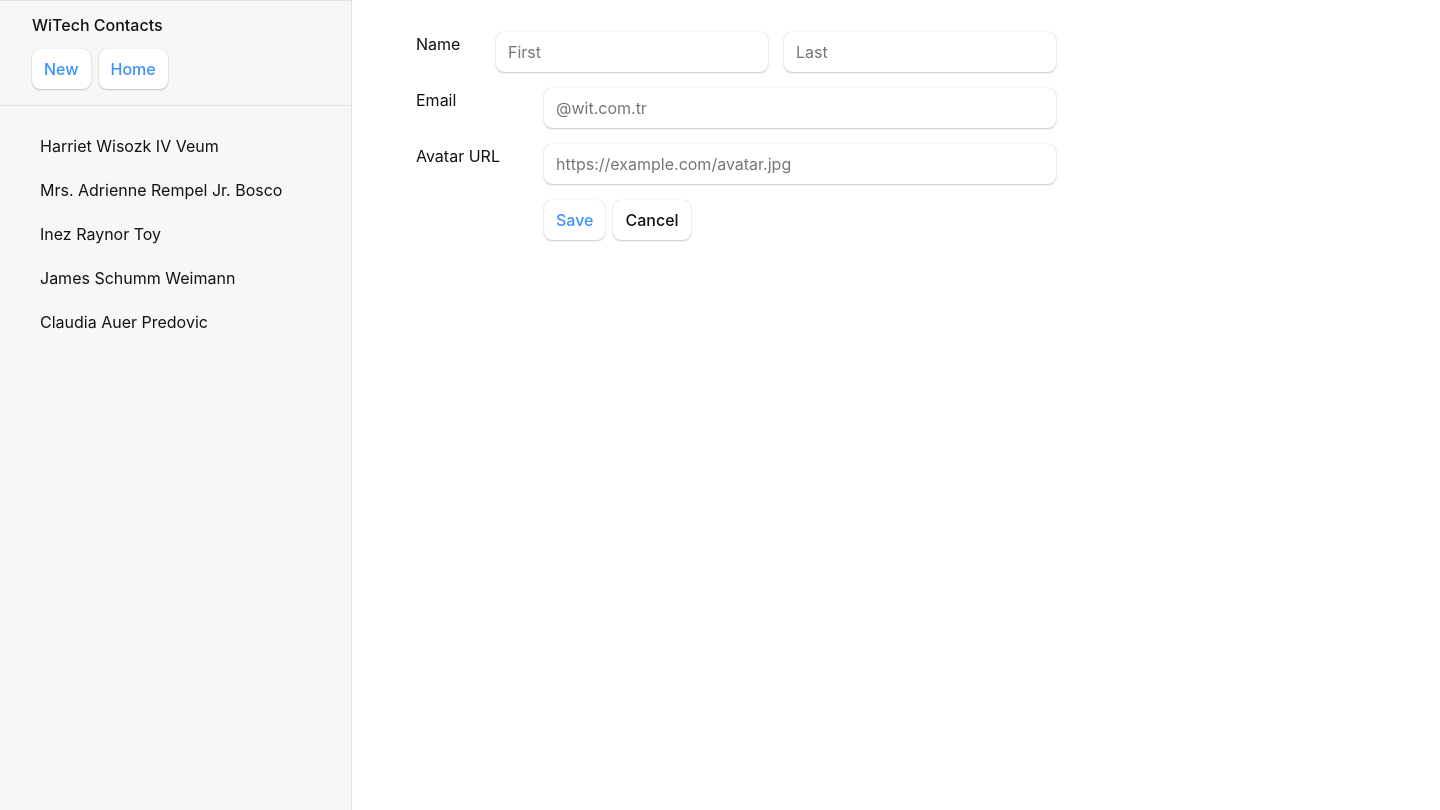
Test: Yeni kullanıcı kayıt ediliyor
Type "Emre" into the field with placeholder "First".
click(632, 52); type("Emre")  # box [496,32,768,72]
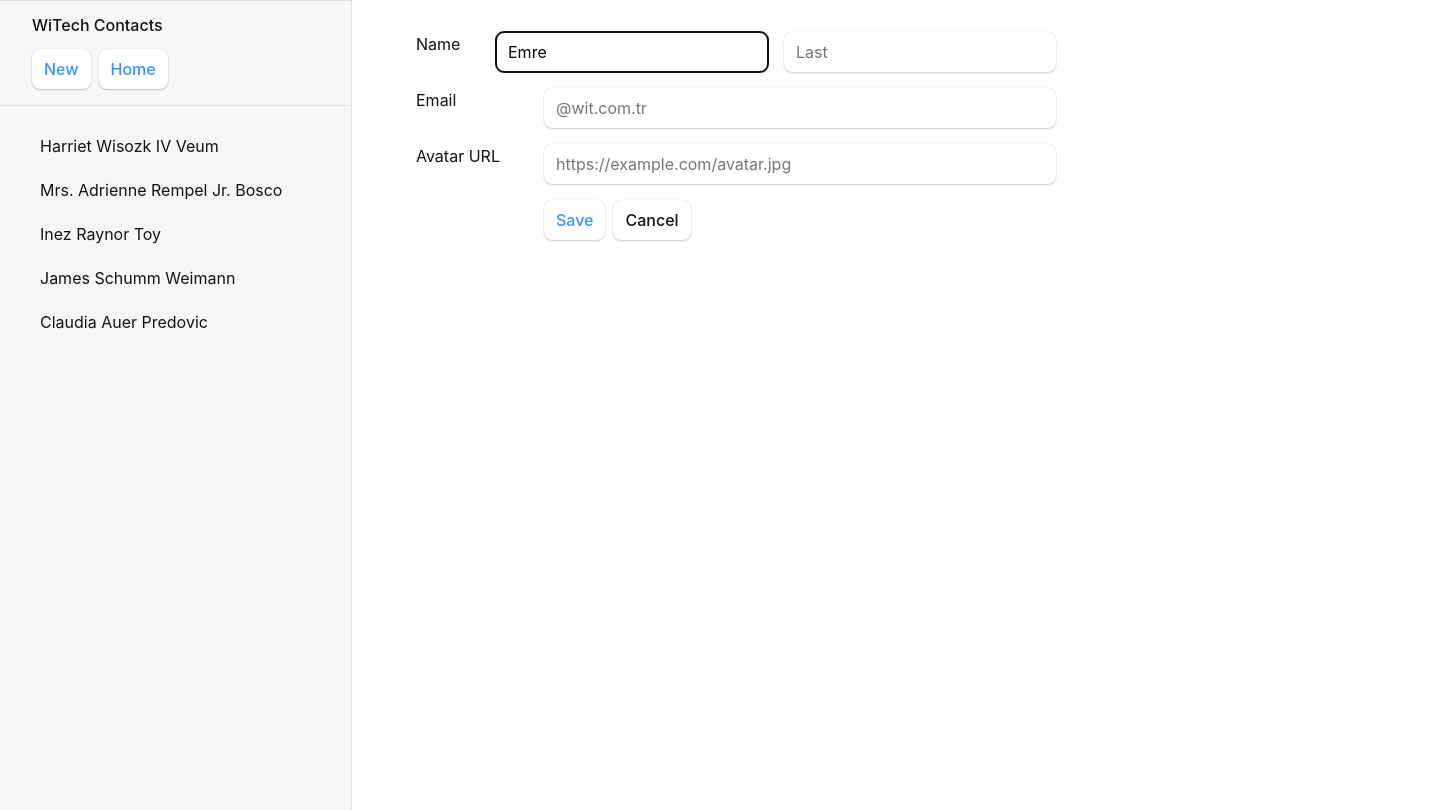
Type "Sahiner" into the field with placeholder "Last".
click(920, 52); type("Sahiner")  # box [784,32,1056,72]
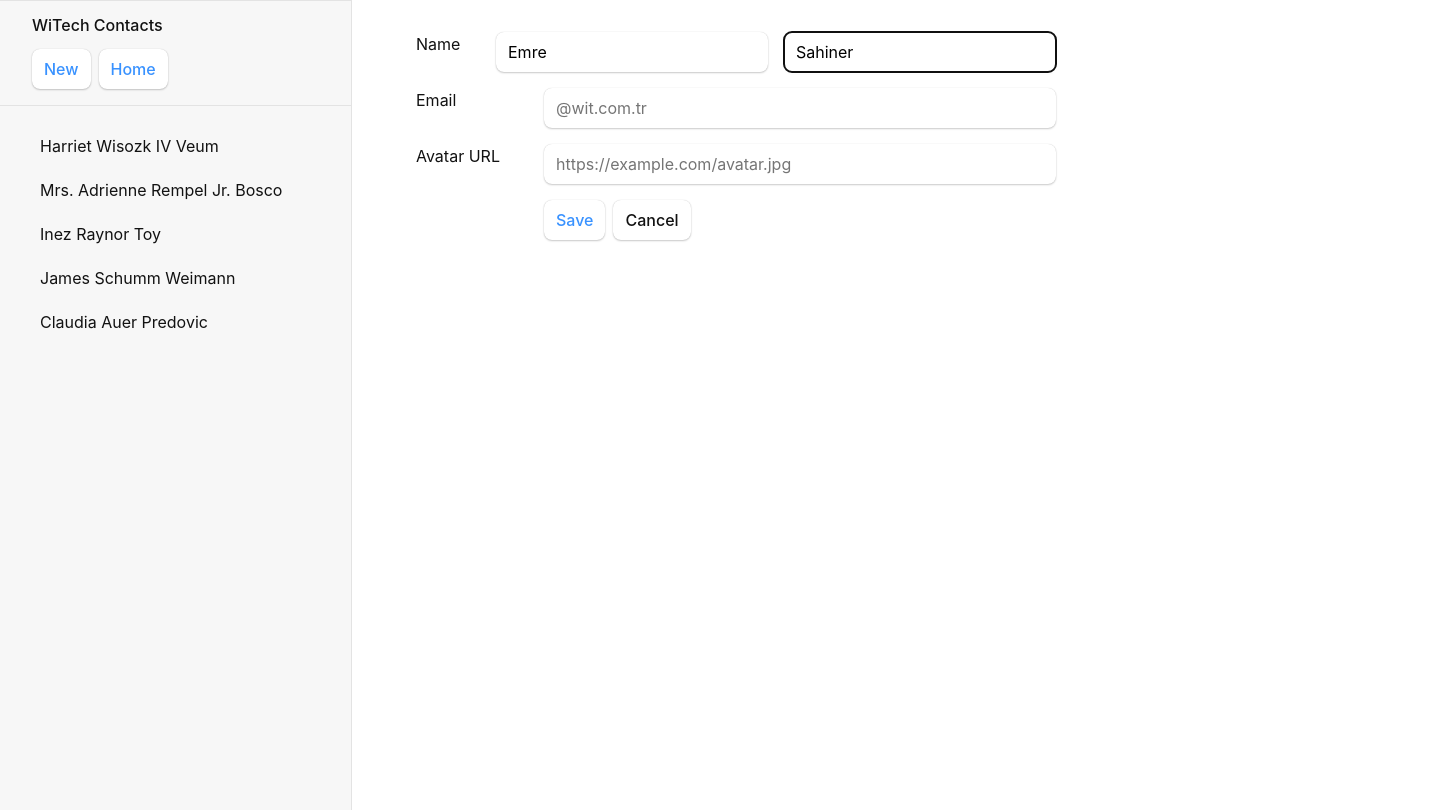
Type "emre@wit.com.tr" into the field with placeholder "@wit.com.tr".
click(800, 108); type("emre@wit.com.tr")  # box [544,88,1056,128]
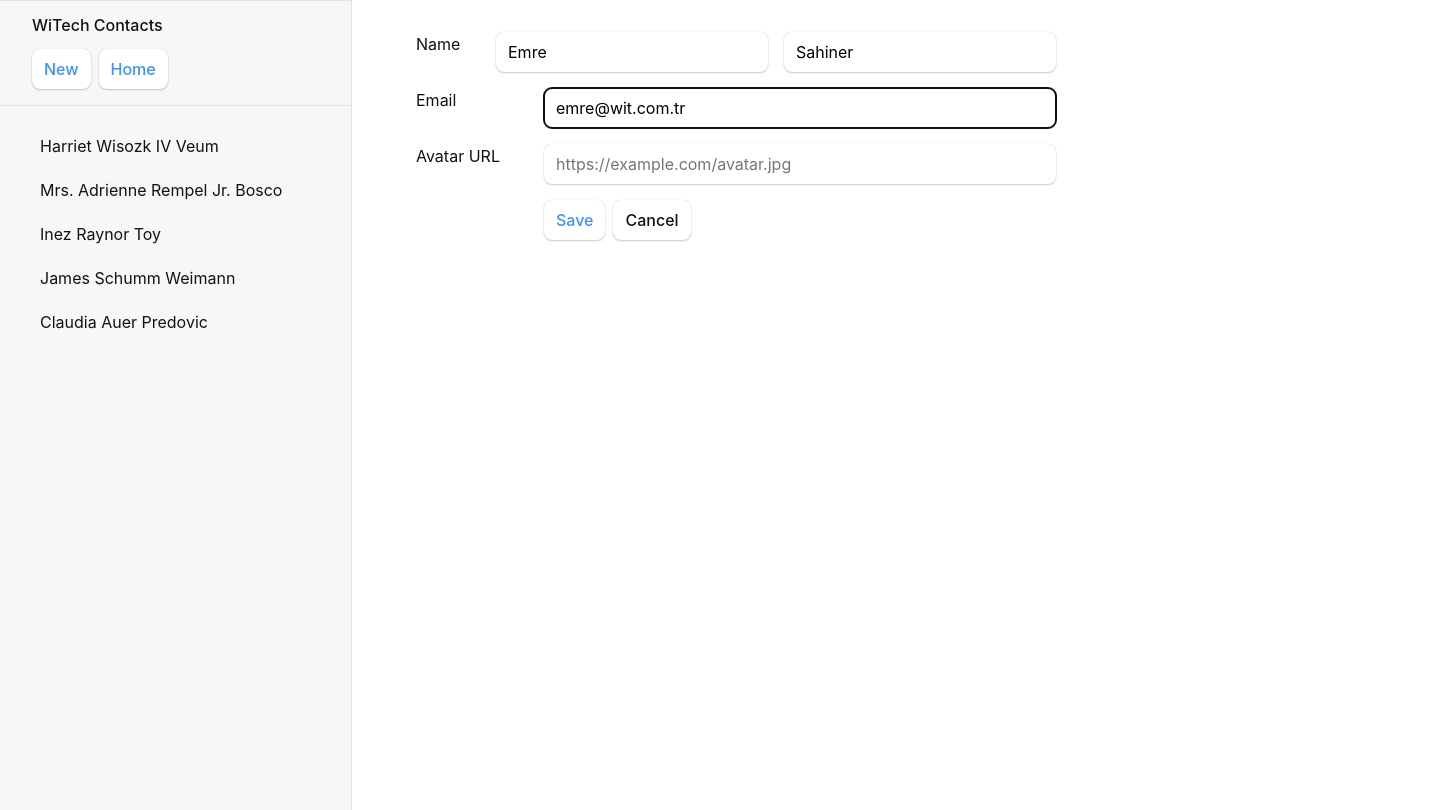
Type "https://picsum.photos/300" into the field with placeholder "https://example.com/avatar.jpg".
click(800, 164); type("https://picsum.photos/300")  # box [544,144,1056,184]
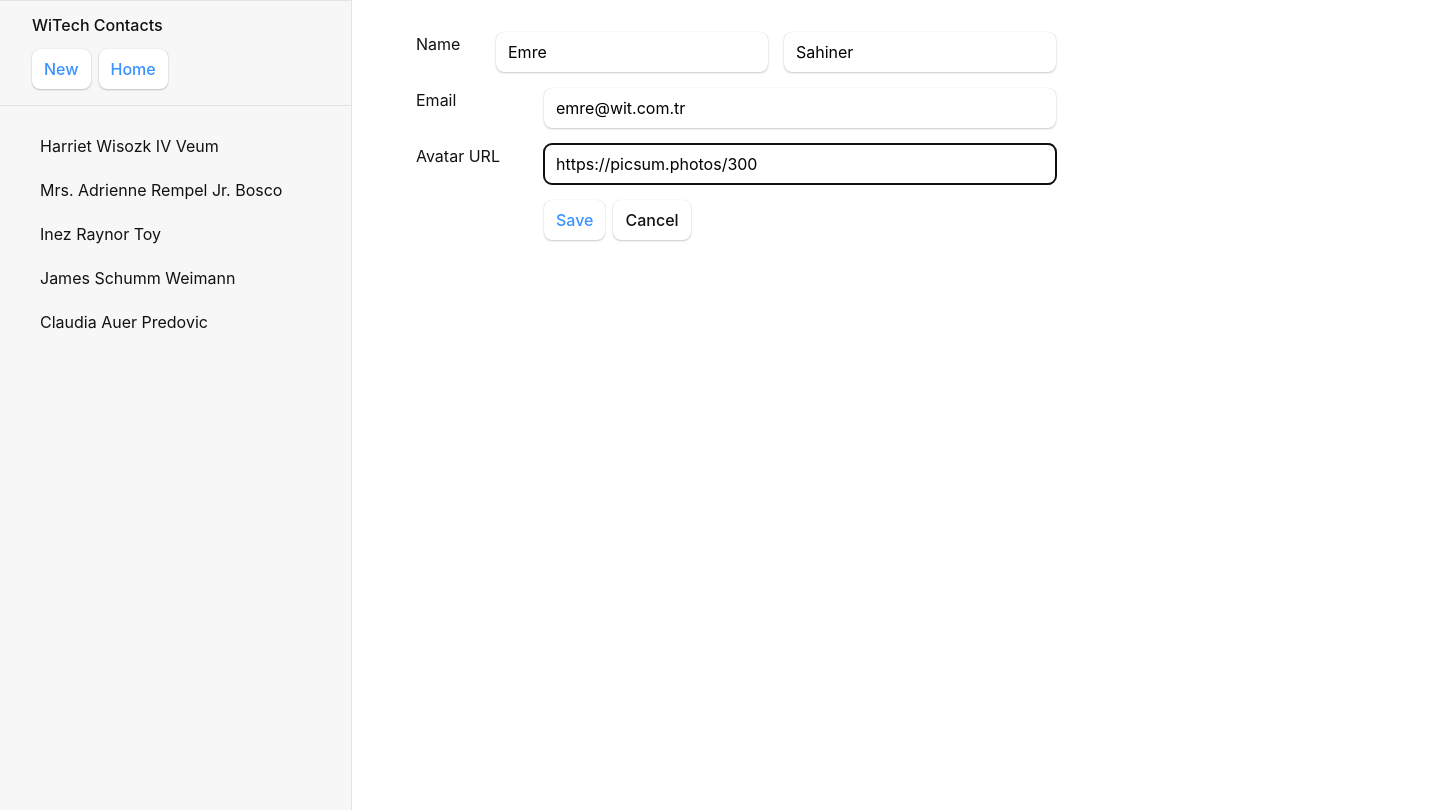
Click the button "Save".
click(575, 220)  # box [544,200,606,240]
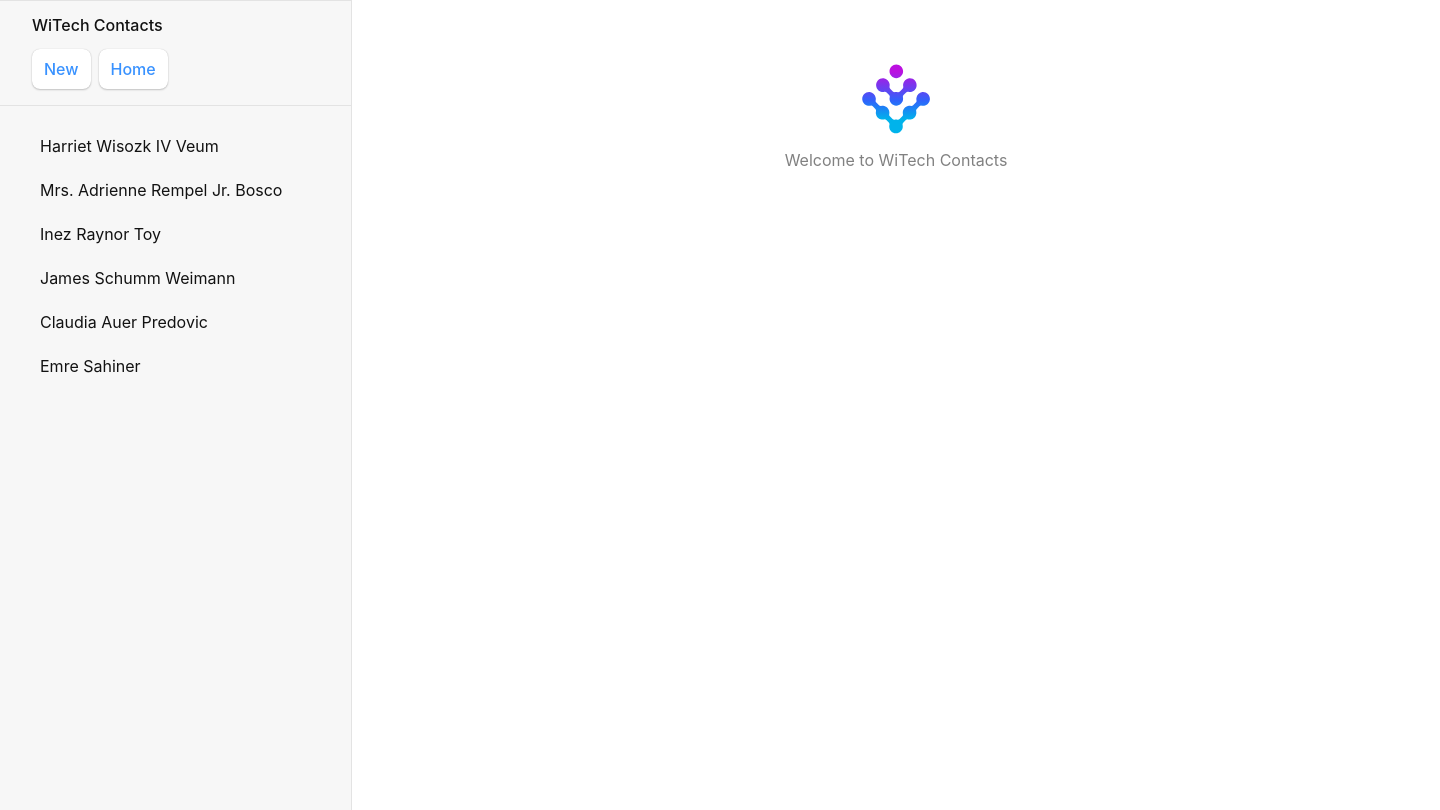
Expected: the link "Emre Sahiner" is shown, [40,356,141,376]
